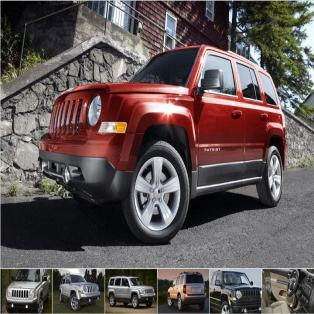Auto: (41, 44, 289, 244)
